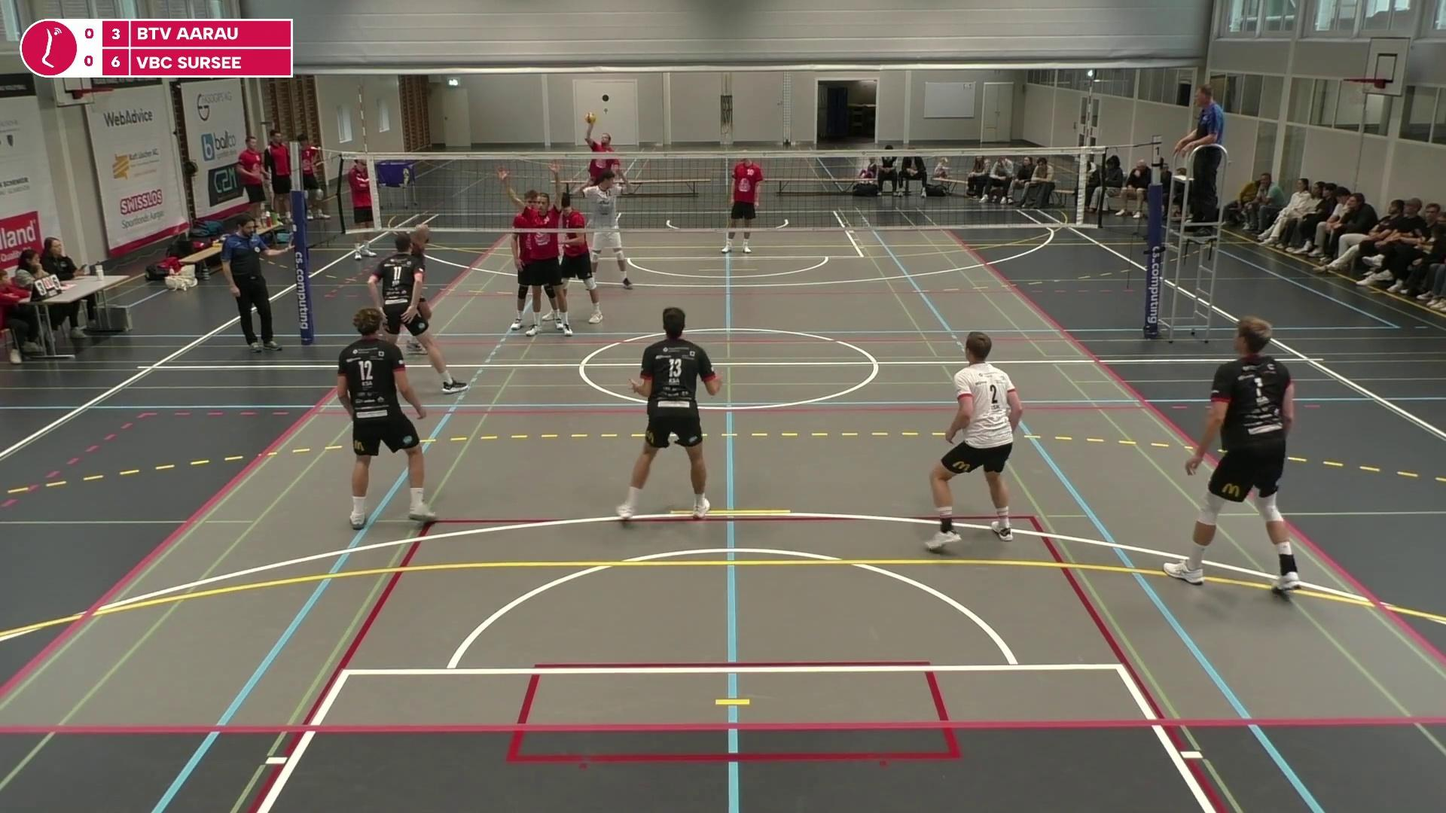battuta: (579, 112, 621, 223)
